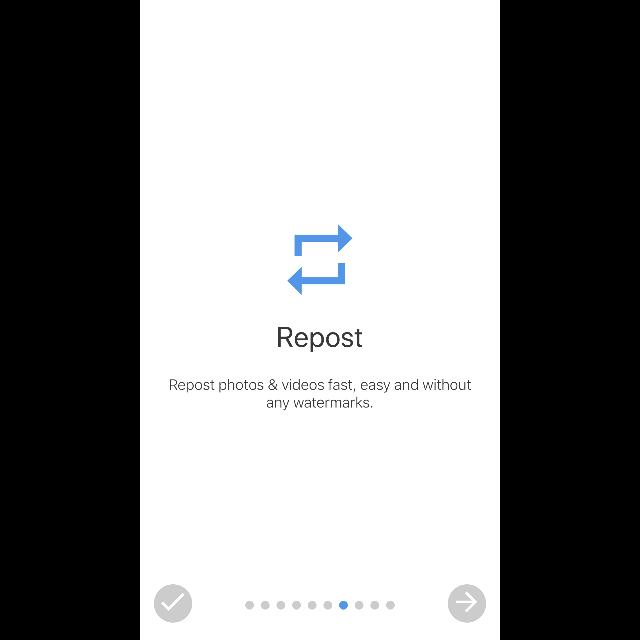icon: (288, 224, 352, 294), (448, 584, 486, 622), (154, 584, 192, 622)
pageindicator: (246, 601, 394, 609)
text: (170, 380, 470, 410), (278, 326, 362, 352)
